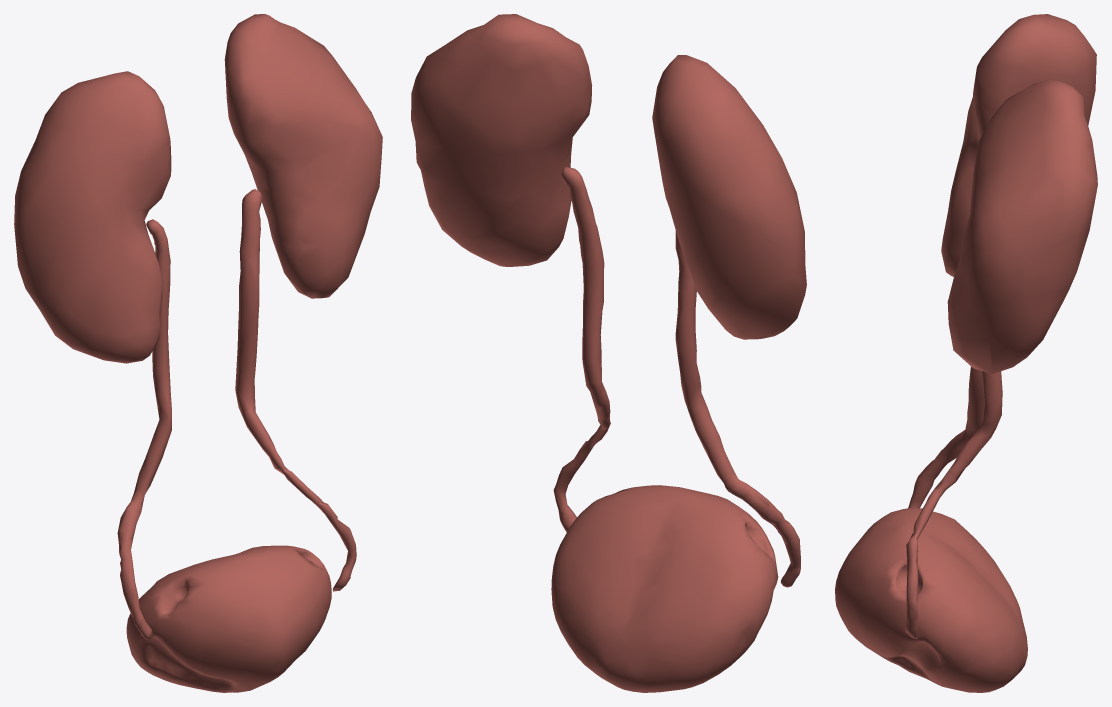
File: pediatric_infant_female.urinary.LOD0.glb
3 views of the same model, side by side, from view 1: azimuth 30°, elevation 25°; view 2: azimuth 150°, elevation 25°; view 3: azimuth 270°, elevation 25° (orthographic). The views are drawn at different scales.
Parts seen in each view (by area): view 1: PEDIATRIC.INFANT.FEMALE.URINARY.KIDNEY_CORTEX.R, PEDIATRIC.INFANT.FEMALE.URINARY.KIDNEY_CORTEX.L, PEDIATRIC.INFANT.FEMALE.URINARY.URINARY_BLADDER_WALL, PEDIATRIC.INFANT.FEMALE.URINARY.URETER.L, PEDIATRIC.INFANT.FEMALE.URINARY.URETER.R; view 2: PEDIATRIC.INFANT.FEMALE.URINARY.URINARY_BLADDER_WALL, PEDIATRIC.INFANT.FEMALE.URINARY.KIDNEY_CORTEX.L, PEDIATRIC.INFANT.FEMALE.URINARY.KIDNEY_CORTEX.R, PEDIATRIC.INFANT.FEMALE.URINARY.URETER.R, PEDIATRIC.INFANT.FEMALE.URINARY.URETER.L; view 3: PEDIATRIC.INFANT.FEMALE.URINARY.KIDNEY_CORTEX.L, PEDIATRIC.INFANT.FEMALE.URINARY.URINARY_BLADDER_WALL, PEDIATRIC.INFANT.FEMALE.URINARY.KIDNEY_CORTEX.R, PEDIATRIC.INFANT.FEMALE.URINARY.URETER.L, PEDIATRIC.INFANT.FEMALE.URINARY.URETER.R.
Part boxes in pixels (x1=…): PEDIATRIC.INFANT.FEMALE.URINARY.KIDNEY_CORTEX.R: x1=14, y1=71, x2=171, y2=363; PEDIATRIC.INFANT.FEMALE.URINARY.KIDNEY_CORTEX.L: x1=224, y1=14, x2=382, y2=298; PEDIATRIC.INFANT.FEMALE.URINARY.URINARY_BLADDER_WALL: x1=126, y1=545, x2=331, y2=692; PEDIATRIC.INFANT.FEMALE.URINARY.URETER.L: x1=235, y1=189, x2=356, y2=591; PEDIATRIC.INFANT.FEMALE.URINARY.URETER.R: x1=117, y1=219, x2=171, y2=639; PEDIATRIC.INFANT.FEMALE.URINARY.URINARY_BLADDER_WALL: x1=551, y1=485, x2=778, y2=692; PEDIATRIC.INFANT.FEMALE.URINARY.KIDNEY_CORTEX.L: x1=411, y1=14, x2=592, y2=266; PEDIATRIC.INFANT.FEMALE.URINARY.KIDNEY_CORTEX.R: x1=652, y1=55, x2=806, y2=339; PEDIATRIC.INFANT.FEMALE.URINARY.URETER.R: x1=675, y1=231, x2=800, y2=587; PEDIATRIC.INFANT.FEMALE.URINARY.URETER.L: x1=553, y1=167, x2=610, y2=532; PEDIATRIC.INFANT.FEMALE.URINARY.KIDNEY_CORTEX.L: x1=947, y1=79, x2=1097, y2=373; PEDIATRIC.INFANT.FEMALE.URINARY.URINARY_BLADDER_WALL: x1=835, y1=507, x2=1027, y2=692; PEDIATRIC.INFANT.FEMALE.URINARY.KIDNEY_CORTEX.R: x1=941, y1=14, x2=1096, y2=276; PEDIATRIC.INFANT.FEMALE.URINARY.URETER.L: x1=905, y1=371, x2=1002, y2=638; PEDIATRIC.INFANT.FEMALE.URINARY.URETER.R: x1=908, y1=366, x2=984, y2=508.
Size of the model in its own units: 0.0975 by 0.1652 by 0.0615.
